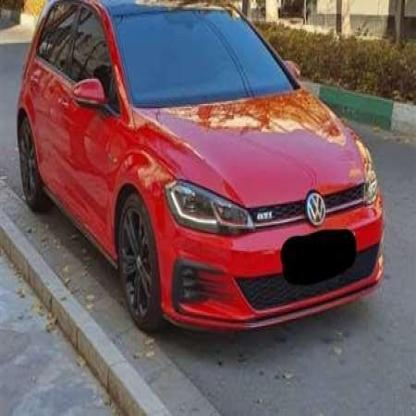Car: (18, 0, 384, 345)
